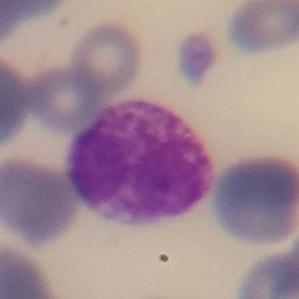Basophil: (64, 98, 218, 229)
Platelets: (156, 251, 171, 265)
RBC: (206, 150, 299, 250), (0, 153, 81, 248), (67, 18, 145, 97), (26, 62, 102, 133), (224, 0, 299, 57), (0, 0, 72, 52), (231, 245, 298, 299), (0, 52, 33, 151), (0, 243, 58, 298), (173, 27, 224, 89), (0, 0, 73, 24), (278, 230, 299, 297)
